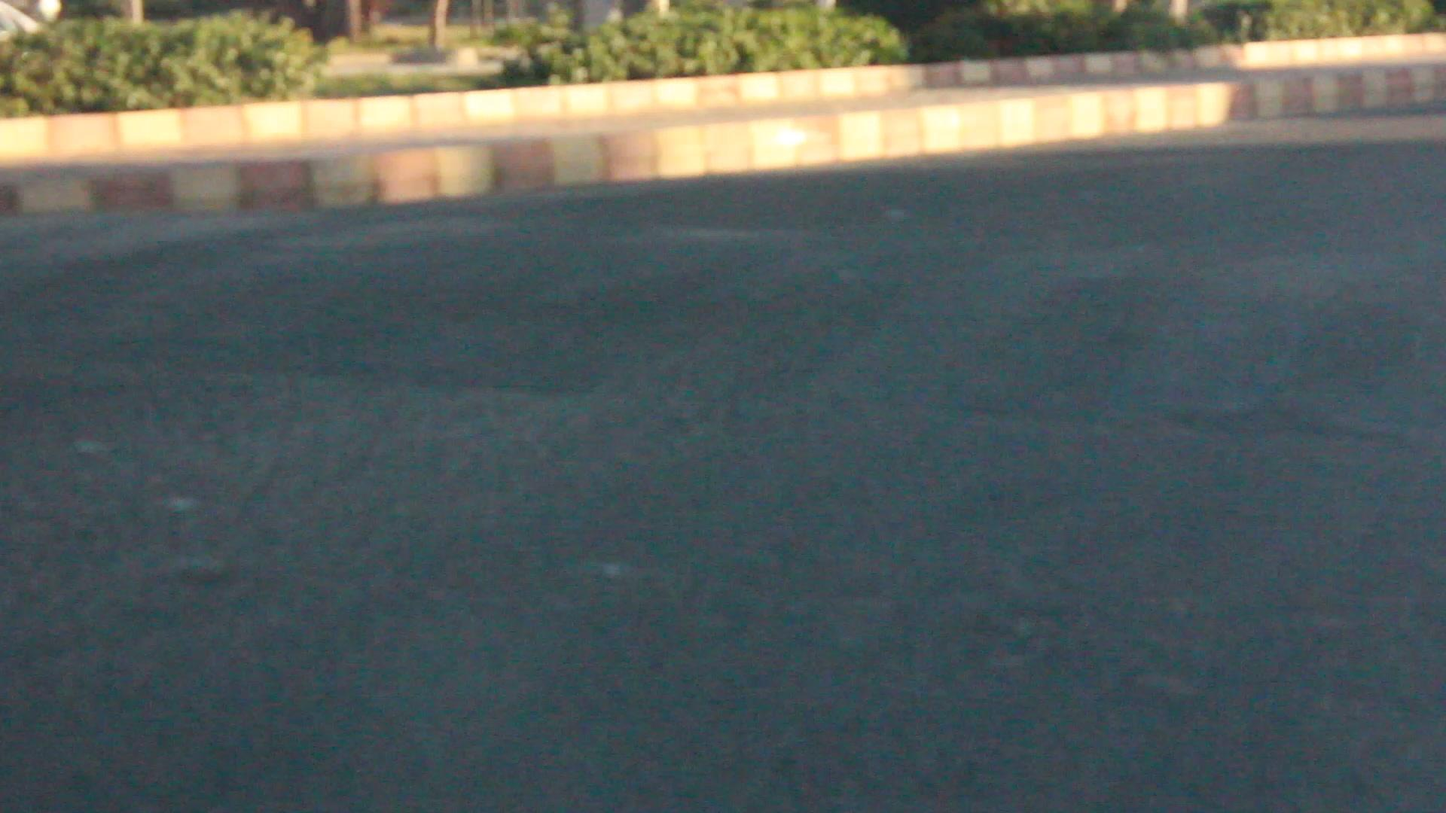Bump: (111, 216, 1399, 438)
